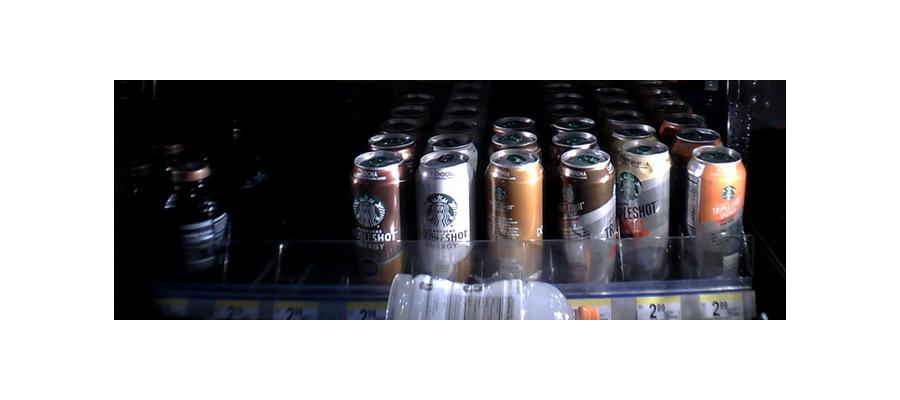bottle: (558, 146, 619, 292), (485, 147, 546, 291), (159, 149, 226, 280), (414, 149, 475, 292), (684, 146, 744, 284), (621, 141, 675, 281), (352, 147, 405, 281)
